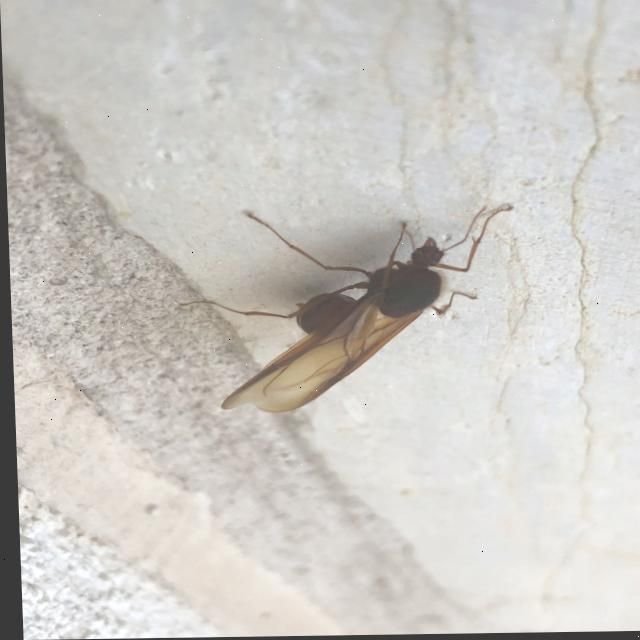Alive-Male-Alate: (173, 205, 518, 415)
